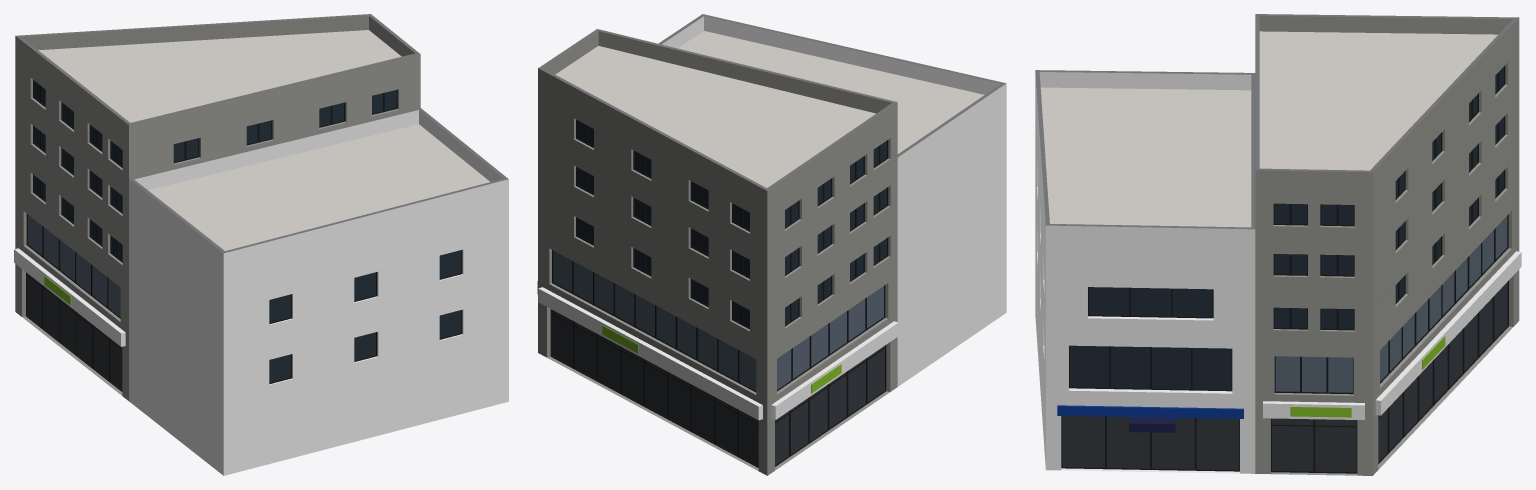
File: bosung529.glb
The picture shows the model from 3 angles, left to right: view 1: azimuth 30°, elevation 25°; view 2: azimuth 150°, elevation 25°; view 3: azimuth 270°, elevation 25°; orthographic projection. The views are drawn at different scales.
Visible parts, largest first — view 1: bosung529; view 2: bosung529; view 3: bosung529.
Boxes of the visible parts, box(x1,y1,x2,y2) form: bosung529: box(14, 14, 508, 475); bosung529: box(537, 14, 1006, 475); bosung529: box(1035, 14, 1521, 475).
Size of the model in its own units: 20.41 by 17.5 by 25.41.
